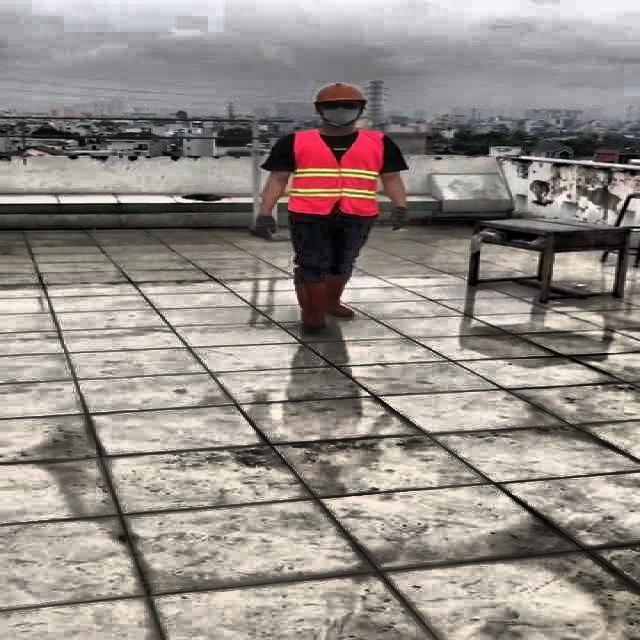safety_helmet: (312, 82, 369, 104)
safety_jacket: (292, 128, 384, 217)
